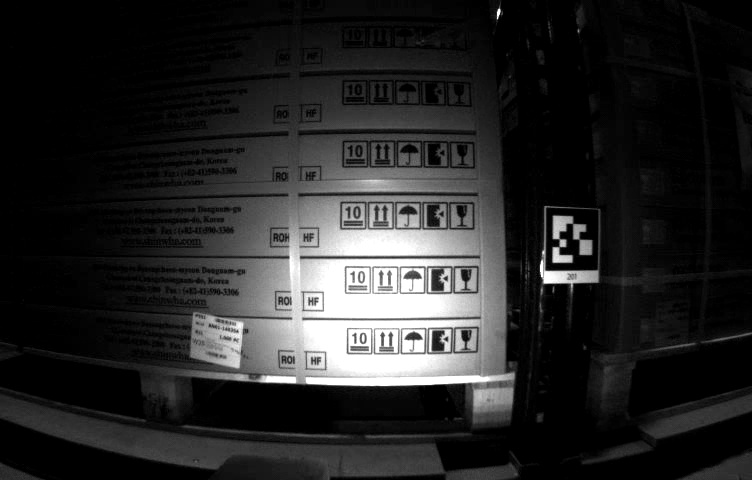True Barcode: (190, 311, 243, 368), (655, 299, 691, 345)
